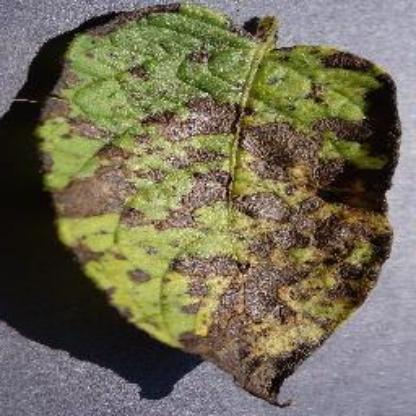Early-Blight: (40, 9, 404, 404)
